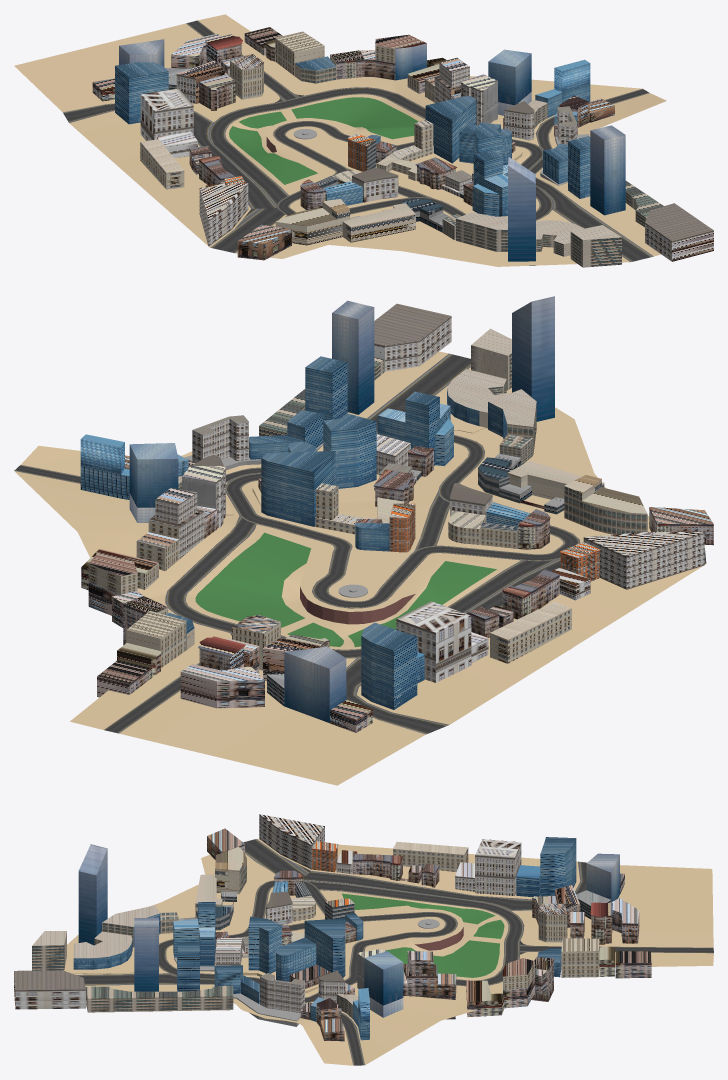
The model's file is City.fbx.
The picture shows the model from 3 angles, top to bottom: view 1: azimuth 30°, elevation 25°; view 2: azimuth 150°, elevation 25°; view 3: azimuth 270°, elevation 25°; orthographic projection. The views are drawn at different scales.
Visible parts, largest first — view 1: polySurface111, polySurface30, polySurface31, polySurface21, polySurface112; view 2: polySurface111, polySurface30, polySurface31, polySurface21, polySurface112; view 3: polySurface111, polySurface30, polySurface31, polySurface21, polySurface112, polySurface62.
Boxes of the visible parts, box(x1,y1,x2,y2) form: polySurface111: box(92, 27, 713, 267); polySurface30: box(14, 14, 666, 266); polySurface31: box(63, 20, 653, 261); polySurface21: box(225, 94, 424, 195); polySurface112: box(455, 147, 569, 222); polySurface111: box(80, 296, 713, 732); polySurface30: box(14, 351, 705, 785); polySurface31: box(14, 353, 706, 734); polySurface21: box(186, 524, 520, 649); polySurface112: box(252, 369, 485, 505); polySurface111: box(14, 814, 651, 1041); polySurface30: box(66, 839, 713, 1065); polySurface31: box(76, 839, 713, 1065); polySurface21: box(319, 890, 508, 980); polySurface112: box(63, 948, 318, 993); polySurface62: box(212, 986, 300, 1026).
Bounding box in the file's own units: 58579 × 13861 × 77161.
13 materials, 9 textured.
